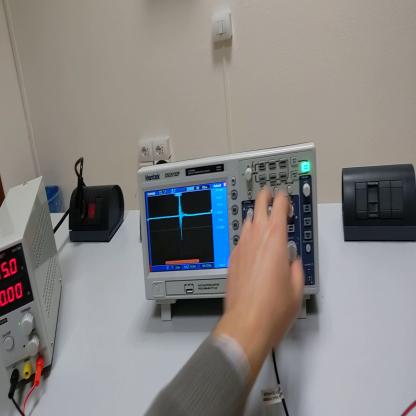hand: (226, 182, 305, 346)
oscilloscope: (137, 140, 324, 320)
power supply: (2, 177, 65, 394)
socket: (68, 185, 125, 242)
